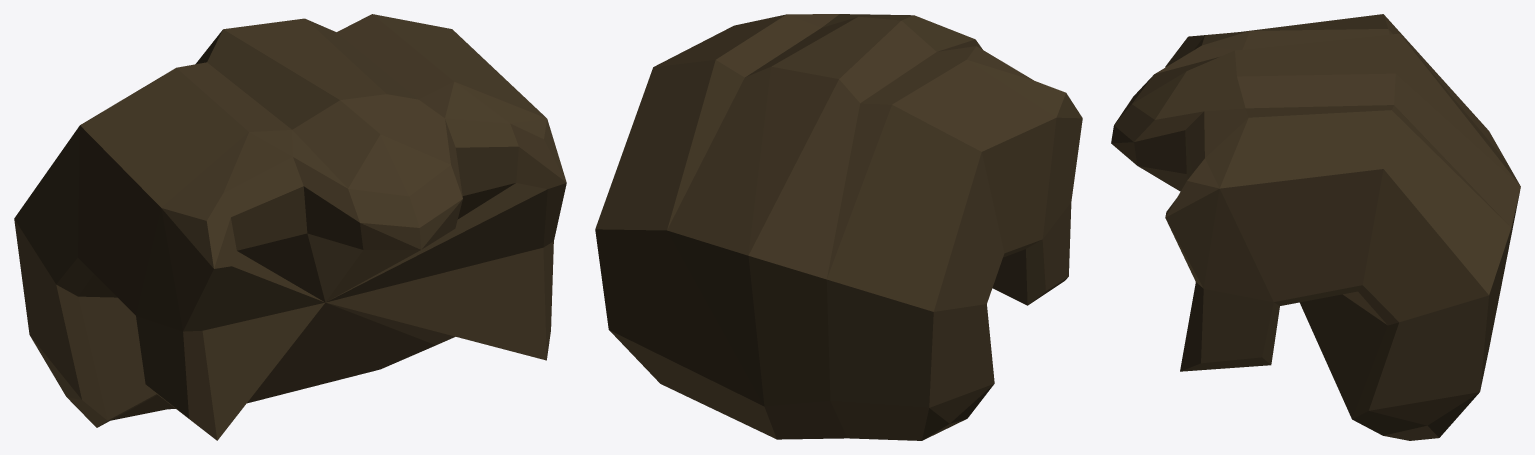
Rendered from Chr_Hair_12_Static.fbx.
3 renders of one model, left to right at view 1: azimuth 30°, elevation 25°; view 2: azimuth 150°, elevation 25°; view 3: azimuth 270°, elevation 25°, orthographic. The views are drawn at different scales.
Parts seen in each view (by area): view 1: Chr_Hair_12_Static; view 2: Chr_Hair_12_Static; view 3: Chr_Hair_12_Static.
Part boxes in pixels (x1=…): Chr_Hair_12_Static: x1=14, y1=14, x2=566, y2=440; Chr_Hair_12_Static: x1=595, y1=14, x2=1082, y2=440; Chr_Hair_12_Static: x1=1111, y1=14, x2=1520, y2=440.
Bounding box in the file's own units: 0.2475 × 0.2346 × 0.2489.
